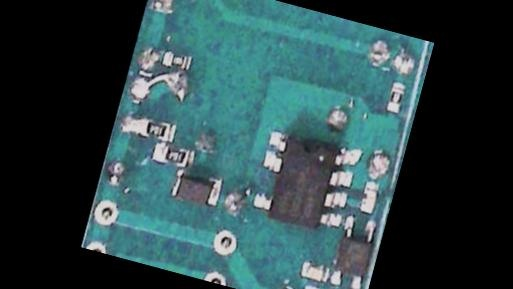chip-capacitor: (354, 178, 382, 216), (296, 257, 330, 283)
chip-resistor: (150, 139, 195, 169), (136, 113, 177, 142), (383, 78, 408, 116), (159, 47, 192, 71), (296, 280, 321, 289)
diode: (166, 164, 226, 210)
ic: (245, 123, 362, 236), (325, 211, 380, 289)
